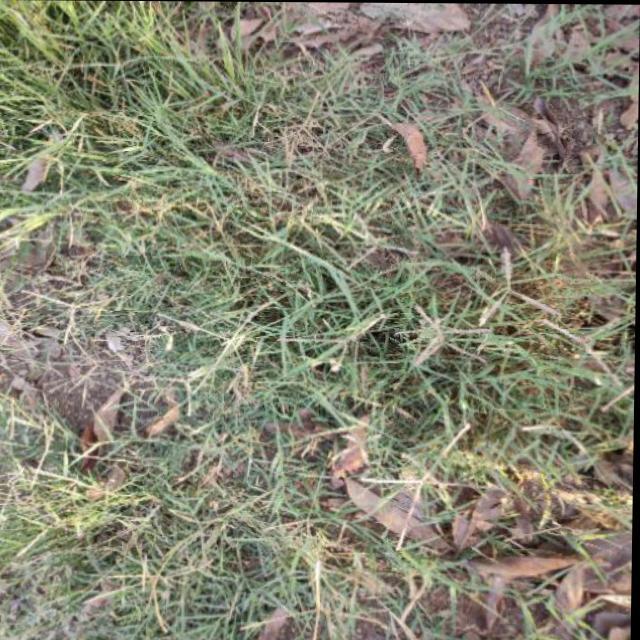weed: (23, 11, 604, 595)
